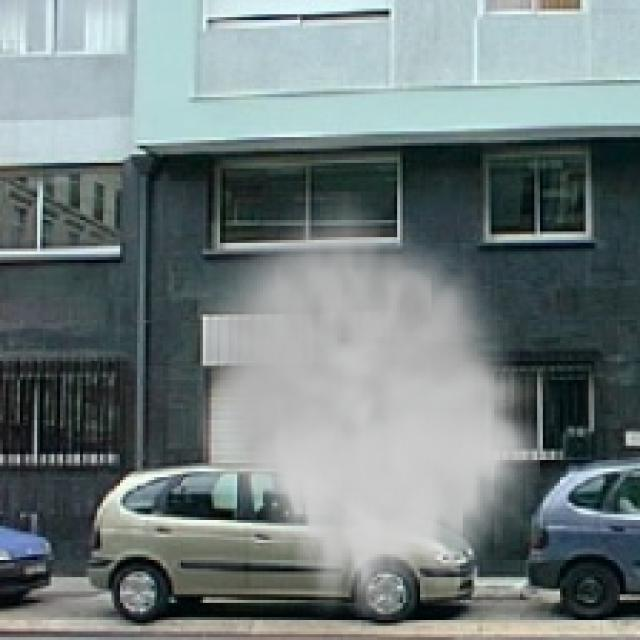smoke: (197, 192, 540, 617)
